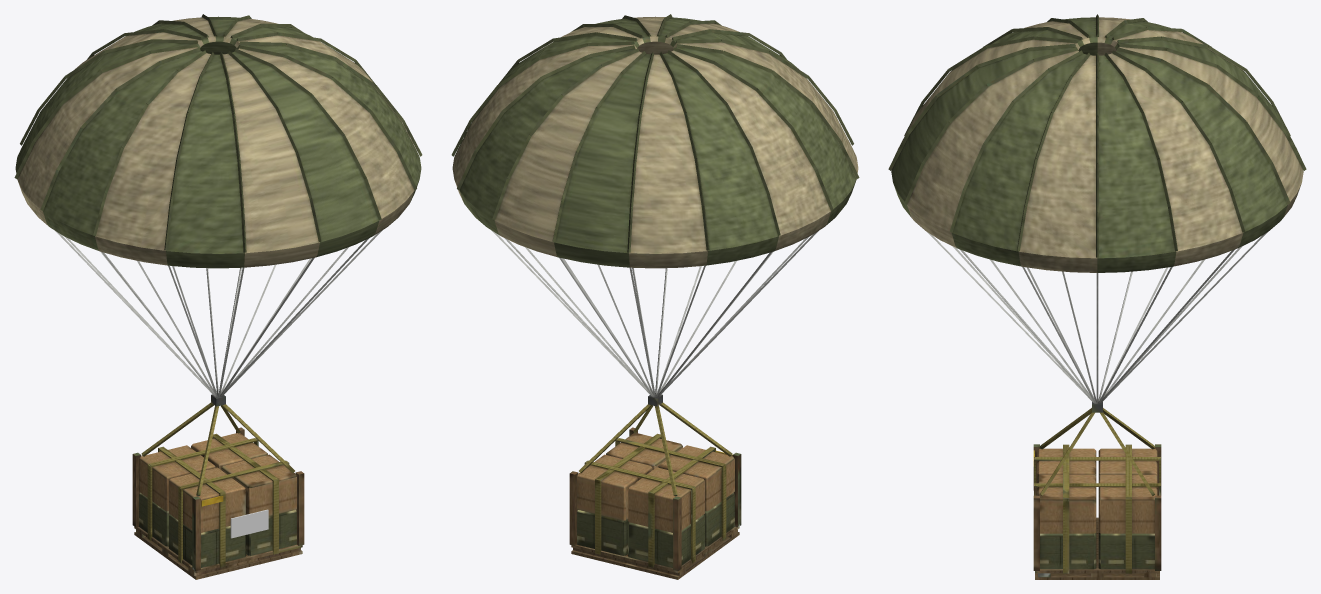
Rendered from supply_crate_chute.glb.
3 renders of one model, left to right at view 1: azimuth 30°, elevation 25°; view 2: azimuth 150°, elevation 25°; view 3: azimuth 270°, elevation 25°, orthographic.
Visible parts, largest first — view 1: Canopy, Crate; view 2: Canopy, Crate; view 3: Canopy, Crate.
Part boxes in pixels (<box>): Canopy: <box>14,14,422,397</box>; Crate: <box>132,394,304,579</box>; Canopy: <box>451,14,859,397</box>; Crate: <box>569,394,741,579</box>; Canopy: <box>888,14,1306,403</box>; Crate: <box>1033,401,1161,579</box>.
Size of the model in its own units: 6.69 by 9 by 6.69.
Materials: 3 (2 with a texture image).
